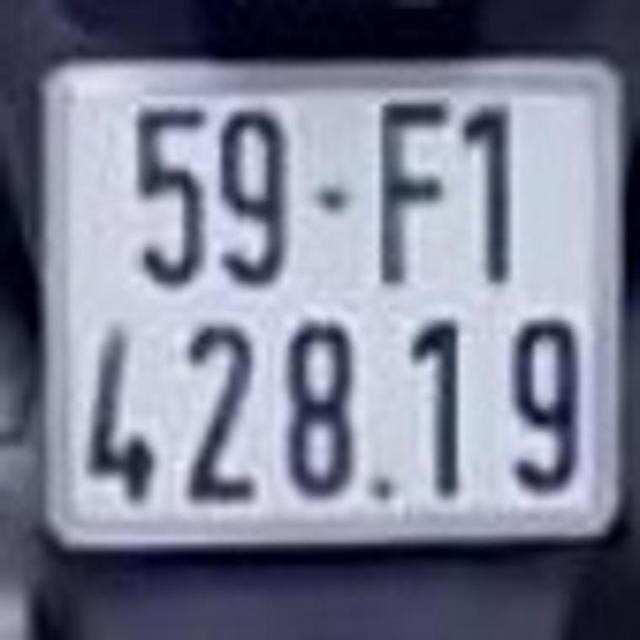1: (405, 306, 478, 498), (460, 90, 528, 285)
2: (180, 311, 260, 506)
4: (80, 316, 162, 508)
5: (127, 96, 210, 290)
8: (281, 306, 357, 500)
9: (505, 296, 589, 498), (215, 99, 292, 290)
F: (372, 91, 453, 286)
